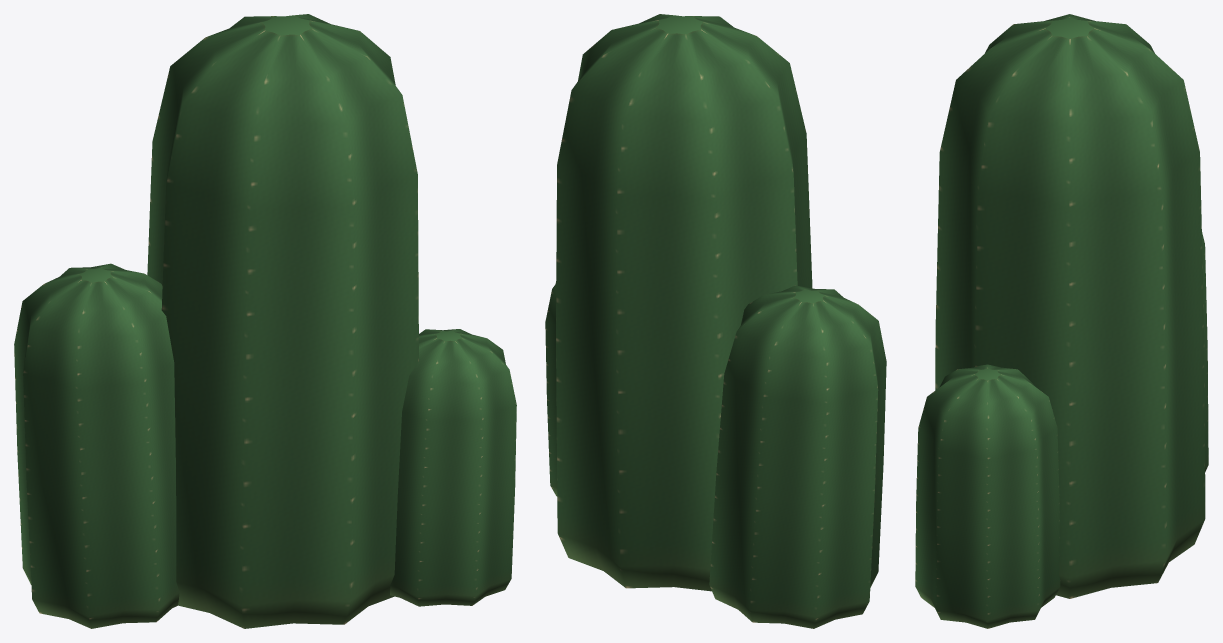
The model's file is Cactus Cluster.fbx.
The picture shows the model from 3 angles, left to right: view 1: azimuth 30°, elevation 25°; view 2: azimuth 150°, elevation 25°; view 3: azimuth 270°, elevation 25°; orthographic projection. The views are drawn at different scales.
Parts seen in each view (by area): view 1: Cactus Cluster; view 2: Cactus Cluster; view 3: Cactus Cluster.
Boxes of the visible parts, <box> form: Cactus Cluster: <box>14,14,516,628</box>; Cactus Cluster: <box>545,14,886,628</box>; Cactus Cluster: <box>915,14,1208,628</box>.
Bounding box in the file's own units: 72.24 × 91.79 × 46.5.
